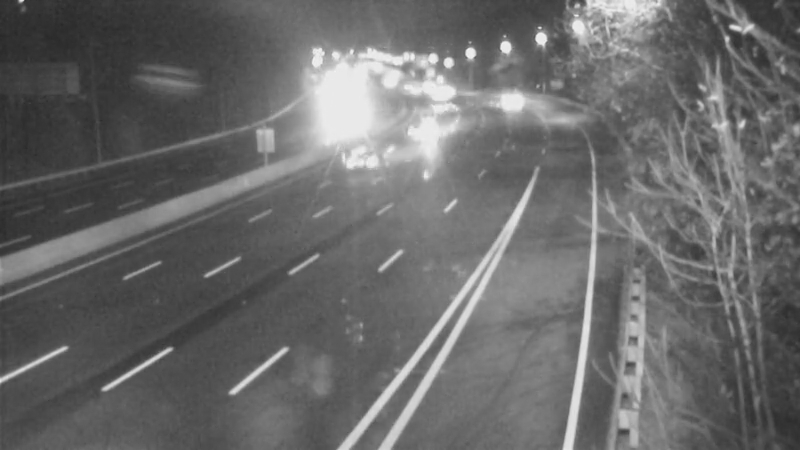vehicle: (317, 120, 397, 200), (385, 66, 435, 116), (411, 69, 461, 119), (422, 65, 472, 115), (482, 78, 532, 128), (415, 84, 465, 134), (399, 102, 449, 152)
